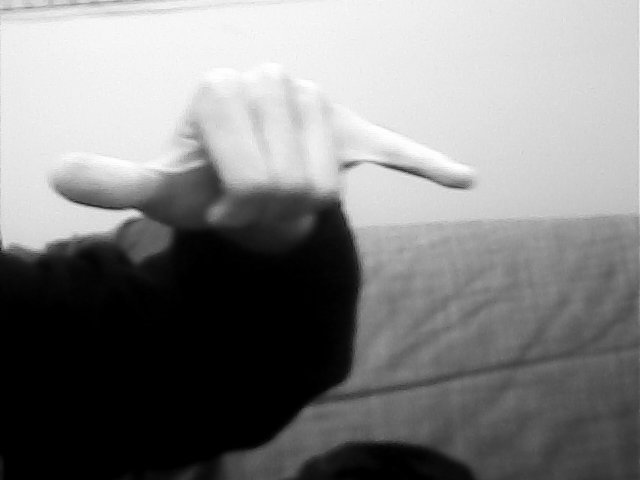aloha: (41, 55, 480, 251)
